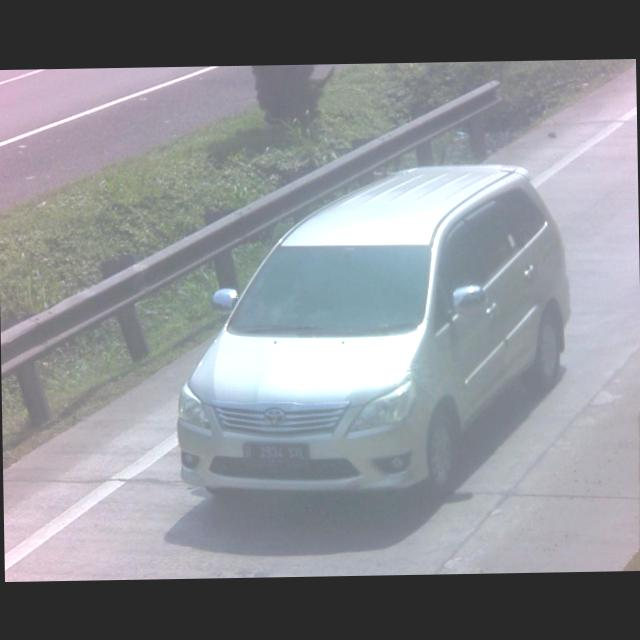plate: (240, 439, 308, 468)
